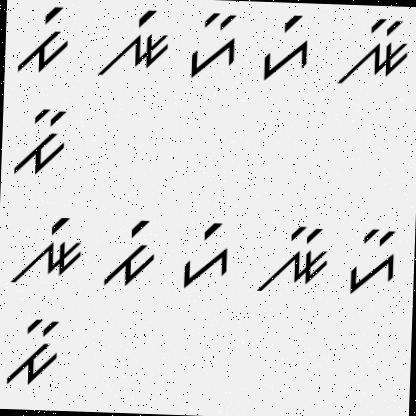han: (344, 224, 402, 300), (184, 10, 242, 80)
hang: (174, 219, 236, 292), (258, 12, 314, 85)
mban: (10, 104, 75, 184), (3, 310, 62, 388)
mbang: (95, 213, 160, 290), (16, 4, 72, 83)
ndan: (335, 11, 412, 90), (255, 220, 332, 296)
ndang: (96, 4, 174, 82), (7, 212, 85, 288)
